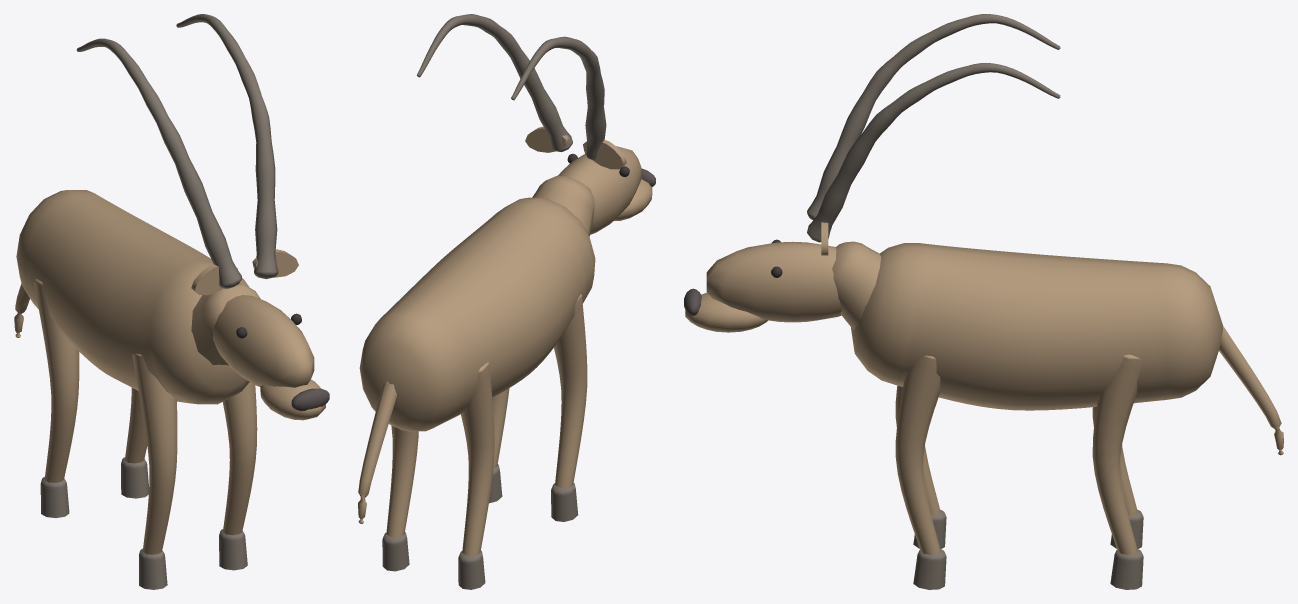
The model's file is polar-tundra-and-alpine-fauna-alpine-ibex-43a6a3f8__6063.glb.
The picture shows the model from 3 angles, left to right: view 1: azimuth 30°, elevation 25°; view 2: azimuth 150°, elevation 25°; view 3: azimuth 270°, elevation 25°; orthographic projection. The views are drawn at different scales.
Visible parts, largest first — view 1: alpine-ibex; view 2: alpine-ibex; view 3: alpine-ibex.
Part boxes in pixels (bbox=[...]): alpine-ibex: bbox=[14, 14, 329, 589]; alpine-ibex: bbox=[358, 14, 655, 589]; alpine-ibex: bbox=[684, 14, 1283, 589].
Bounding box in the file's own units: 0.4599 × 1.81 × 1.87.
